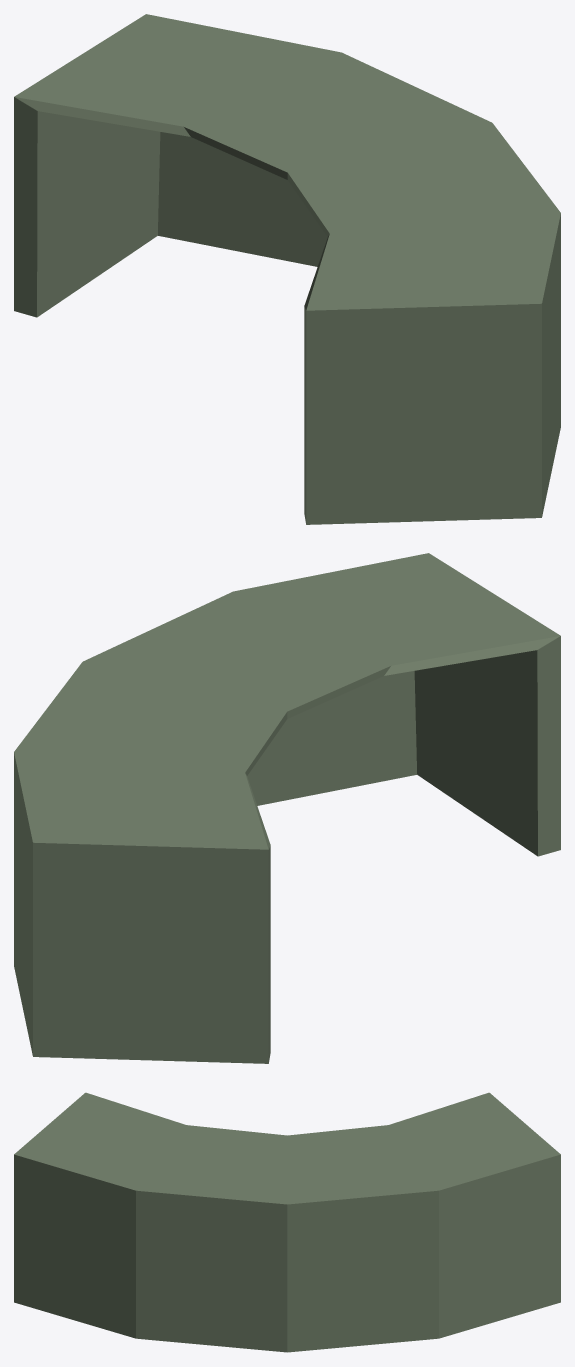
File: desk-1.fbx
The picture shows the model from 3 angles, top to bottom: view 1: azimuth 30°, elevation 25°; view 2: azimuth 150°, elevation 25°; view 3: azimuth 270°, elevation 25°; orthographic projection. The views are drawn at different scales.
Parts seen in each view (by area): view 1: desk-1; view 2: desk-1; view 3: desk-1.
Part boxes in pixels (box(x1,y1,x2,y2)): desk-1: box(14, 14, 560, 524); desk-1: box(14, 553, 560, 1063); desk-1: box(14, 1092, 560, 1352).
Bounding box in the file's own units: 325 × 200 × 670.
